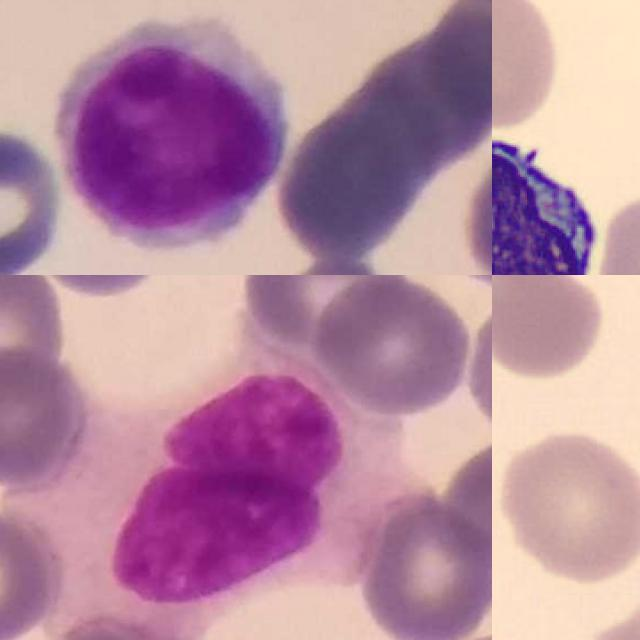Lymphocyte: (50, 15, 288, 252), (492, 118, 609, 275)
Monocyte: (27, 353, 420, 640)
RBC: (492, 425, 640, 585), (492, 275, 607, 383), (492, 0, 562, 132)
